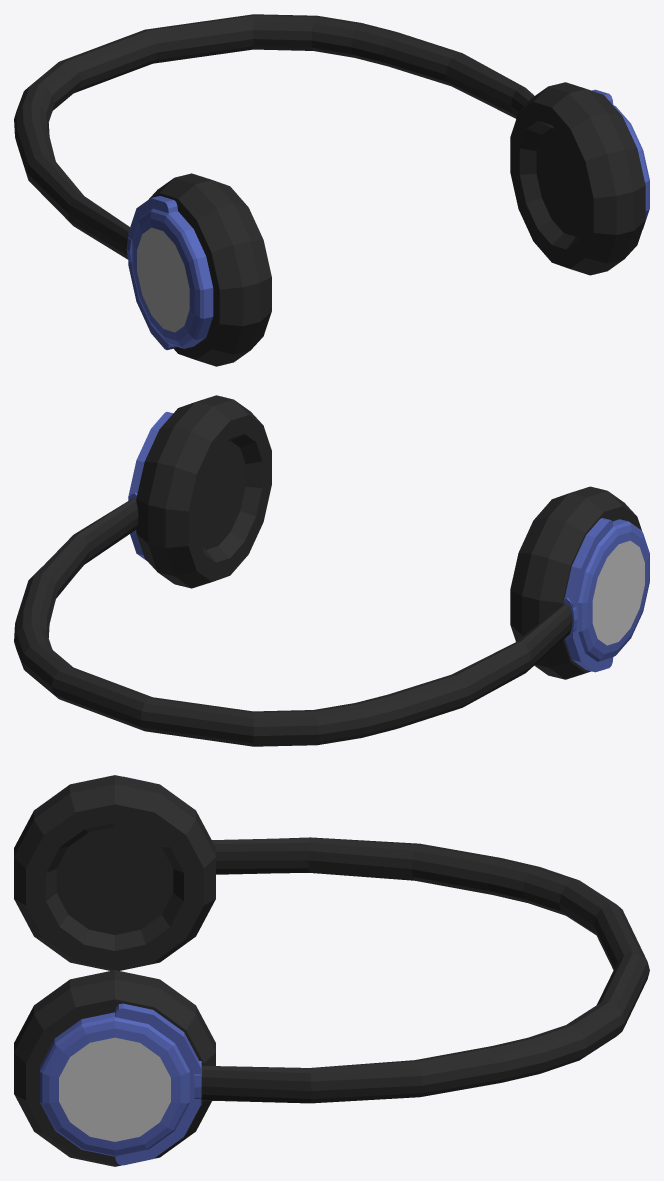
File: Head Phone_4.fbx
3 views of the same model, one above another, from view 1: azimuth 30°, elevation 25°; view 2: azimuth 150°, elevation 25°; view 3: azimuth 270°, elevation 25° (orthographic). The views are drawn at different scales.
Visible parts, largest first — view 1: Head Phone_4; view 2: Head Phone_4; view 3: Head Phone_4.
Boxes of the visible parts, x1,y1,x2,y2 form: Head Phone_4: [14, 14, 649, 366]; Head Phone_4: [14, 395, 649, 746]; Head Phone_4: [14, 775, 649, 1166].
Size of the model in its own units: 0.1523 by 0.0553 by 0.1696.
